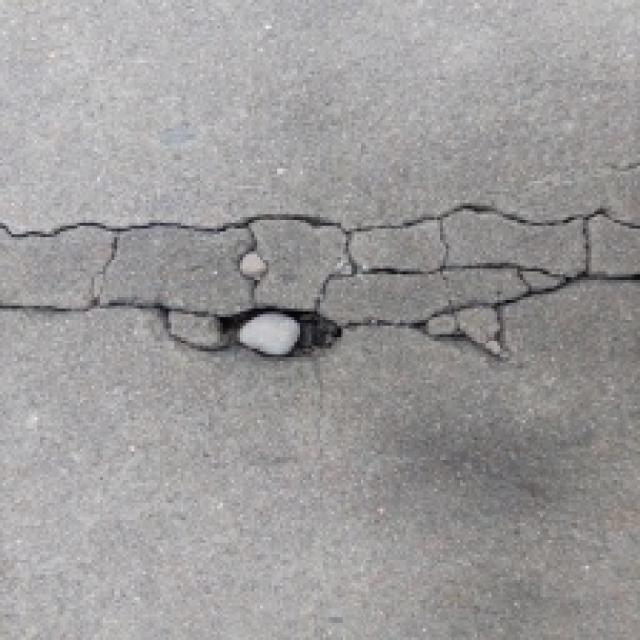crack: (0, 186, 640, 384)
